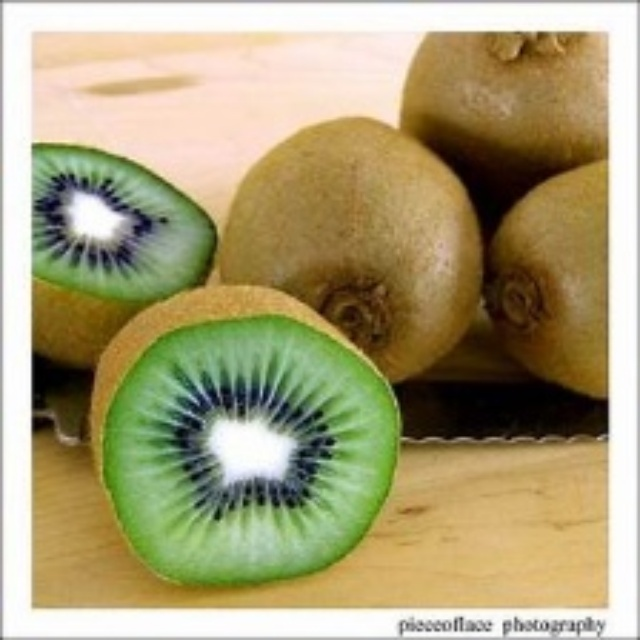kiwi: (98, 293, 399, 584), (235, 106, 485, 399), (474, 143, 639, 413), (38, 139, 220, 370), (396, 35, 631, 165)
